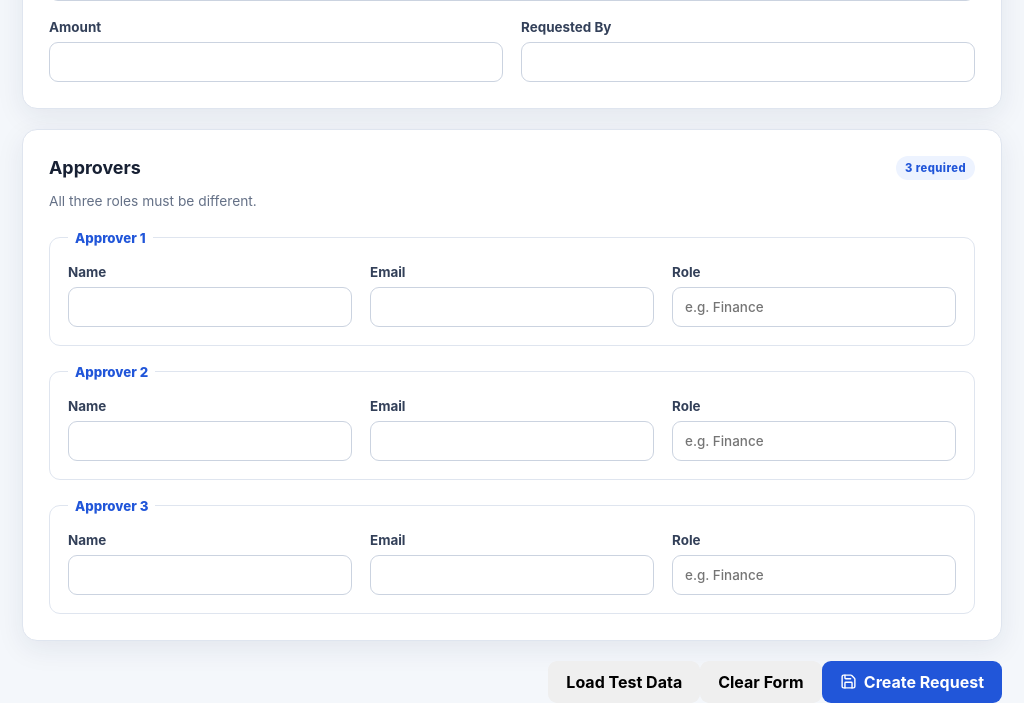
Test: NewRequestPage › loads a complete test case without submitting and avoids an immediate repeat
This screenshot has width=1024, height=703.
(page scrolled)
Click the button "Load Test Data".
click(624, 682)  # box x1=548 y1=661 x2=700 y2=702
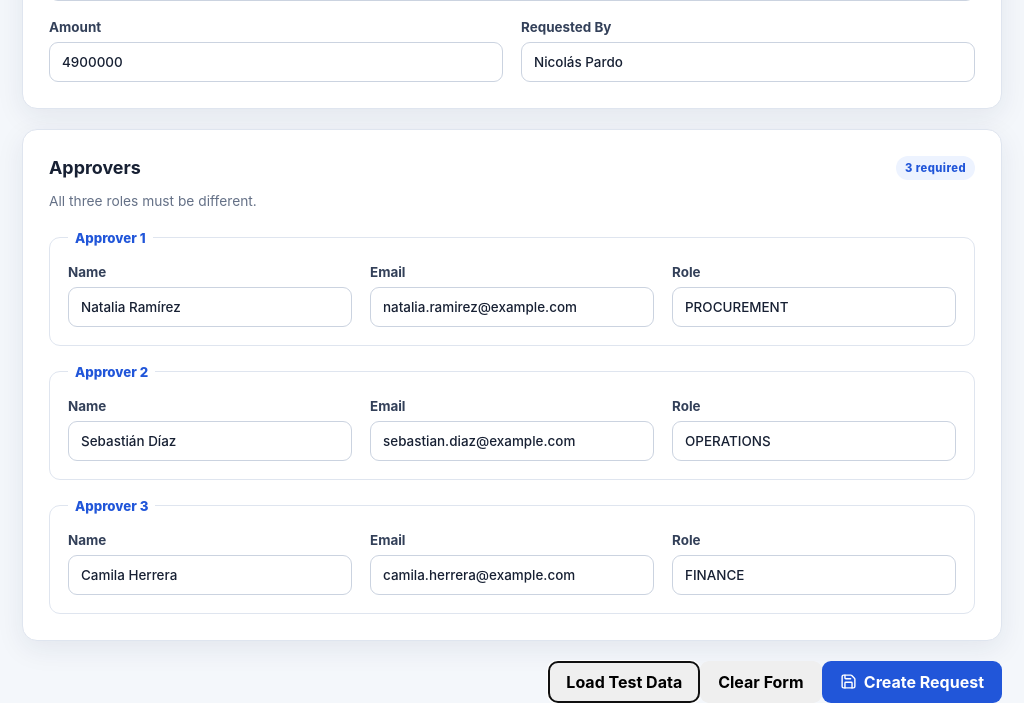
Result: the number field labelled "Amount" is empty at x1=49 y1=42 x2=503 y2=82
Result: the field labelled "Requested By" is not empty at x1=521 y1=42 x2=975 y2=82
Click the button "Load Test Data".
click(624, 682)  # box x1=548 y1=661 x2=700 y2=702
(page scrolled)
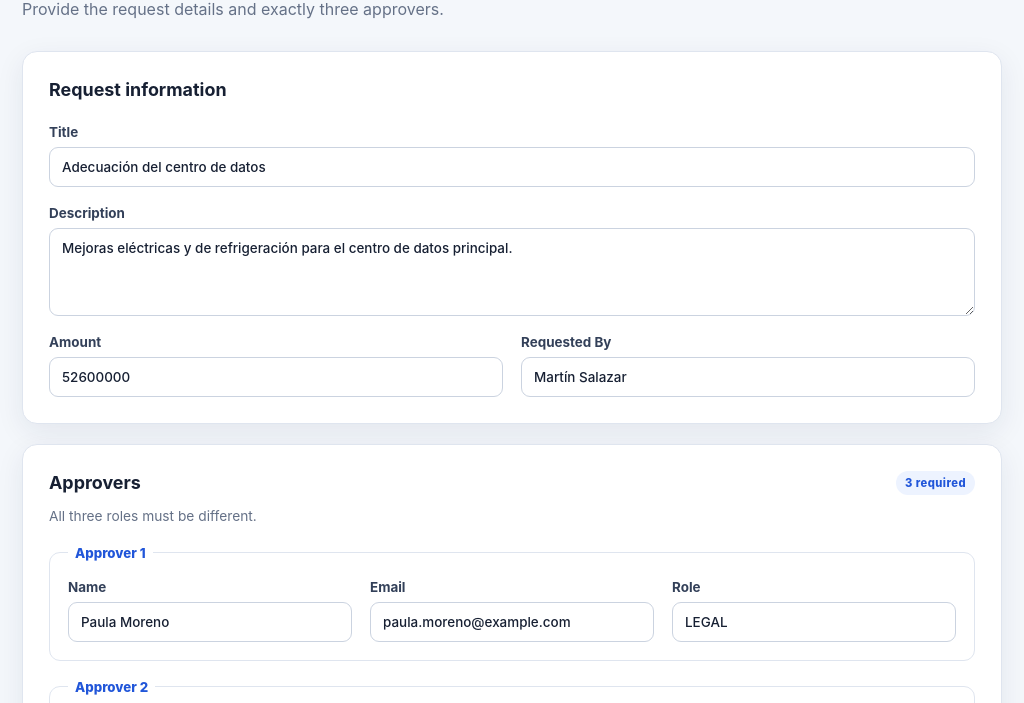
Result: the field labelled "Title" does not hold "Renovación de certificados digitales" at x1=49 y1=147 x2=975 y2=187
